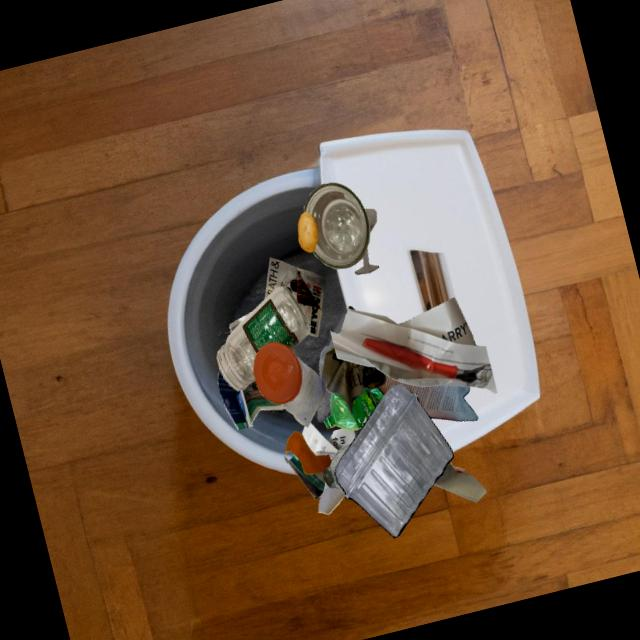biowaste: (284, 431, 331, 475), (297, 211, 317, 252)
cardboard: (433, 461, 486, 502)
glass: (216, 286, 310, 390), (303, 182, 370, 268), (322, 443, 351, 492), (354, 247, 378, 274), (364, 208, 376, 233)
paper: (330, 296, 497, 394), (264, 257, 325, 336), (377, 373, 477, 421), (321, 348, 386, 414), (217, 369, 285, 430), (281, 355, 325, 427), (284, 453, 325, 499), (301, 422, 355, 455), (318, 480, 345, 514)
plastic: (335, 384, 453, 537), (253, 341, 302, 403), (323, 387, 384, 430), (319, 345, 334, 392)
